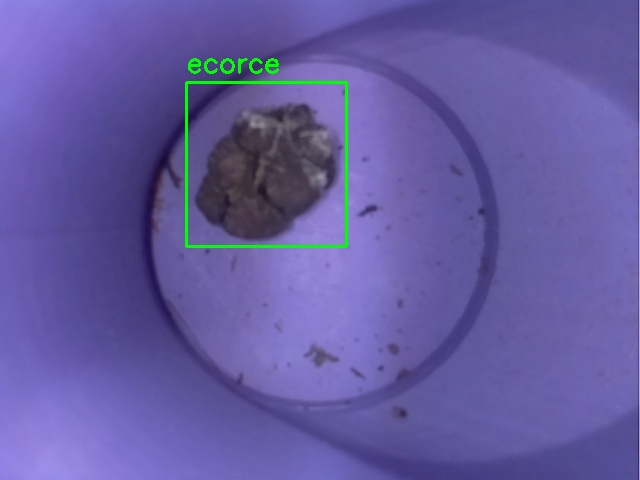ecorce: (186, 82, 346, 246)
